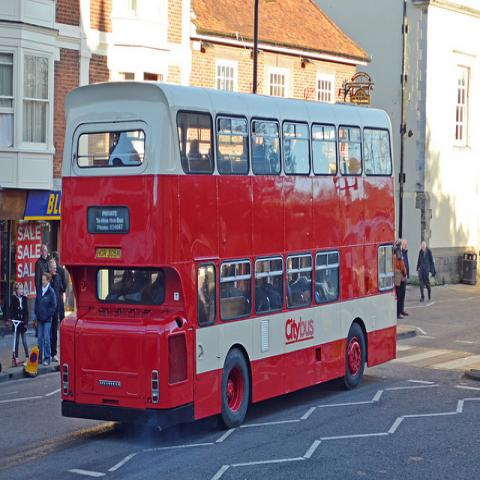bus: (60, 81, 399, 429)
